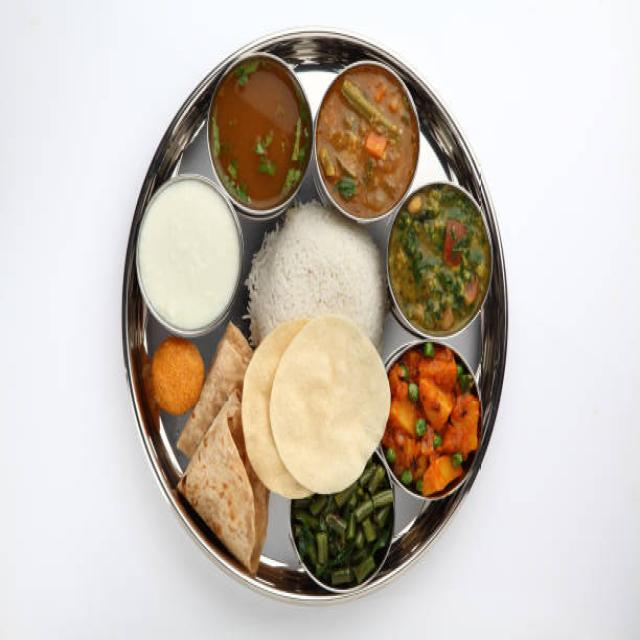CHAPATHI: (178, 323, 268, 573)
CURD: (137, 179, 241, 329)
PAPADAM: (241, 315, 390, 499)
RASAM: (207, 58, 311, 209)
RICE: (245, 201, 384, 350)
SAMBAR: (316, 63, 418, 218)
SWEET: (148, 337, 204, 414)
VEGGIES: (388, 184, 490, 336), (382, 342, 480, 496), (285, 455, 390, 594)
